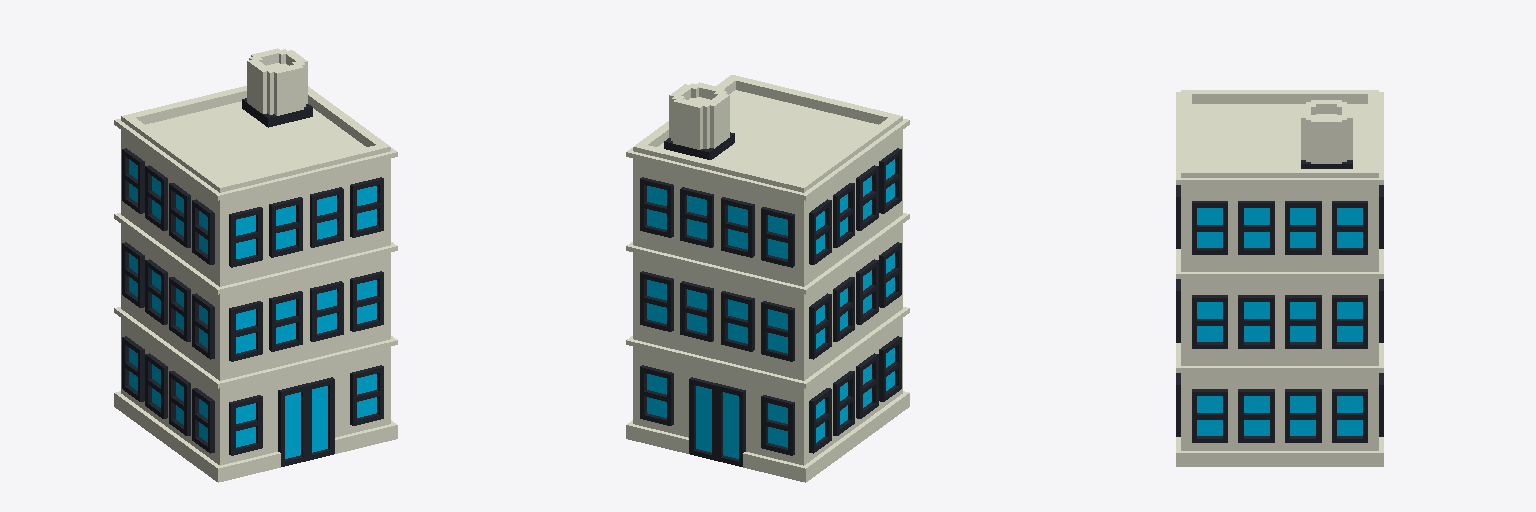
3 views of the same model, side by side, from view 1: azimuth 30°, elevation 25°; view 2: azimuth 150°, elevation 25°; view 3: azimuth 270°, elevation 25° (orthographic).
Visible parts, largest first — view 1: object 1; view 2: object 1; view 3: object 1.
Boxes of the visible parts, box(x1,y1,x2,y2) form: object 1: box(114, 48, 397, 482); object 1: box(626, 75, 909, 482); object 1: box(1176, 90, 1383, 466).
Bounding box in the file's own units: 4 × 7.1 × 4.
Materials: 1 (1 with a texture image).